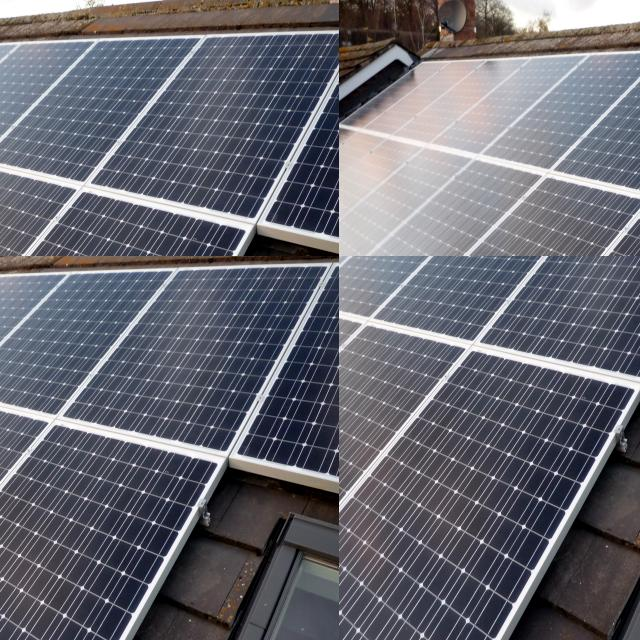bird: (0, 275, 7, 294), (0, 261, 6, 282), (0, 264, 7, 279), (0, 266, 4, 277), (0, 256, 11, 260), (0, 256, 4, 265), (0, 279, 3, 289), (0, 282, 5, 288), (0, 262, 4, 267), (0, 256, 5, 260), (0, 256, 6, 259), (0, 286, 3, 291)
crack: (339, 381, 640, 640), (339, 315, 485, 587), (462, 256, 640, 394)
dust: (0, 58, 40, 122), (0, 34, 25, 58), (0, 8, 18, 35), (0, 0, 25, 13)
